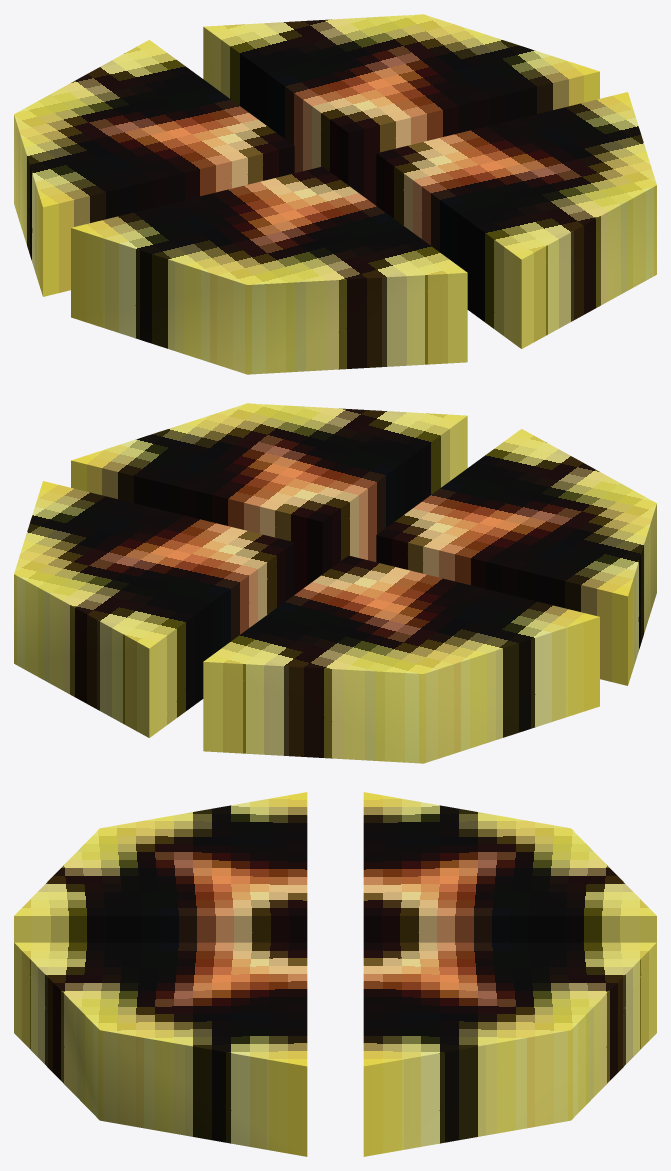
The model's file is ConChip00.glb.
3 views of the same model, one above another, from view 1: azimuth 30°, elevation 25°; view 2: azimuth 150°, elevation 25°; view 3: azimuth 270°, elevation 25° (orthographic).
Visible parts, largest first — view 1: model_ConChip00; view 2: model_ConChip00; view 3: model_ConChip00.
Boxes of the visible parts, left/top/right/bottom form: model_ConChip00: left=14, top=14, right=656, bottom=374; model_ConChip00: left=14, top=403, right=656, bottom=763; model_ConChip00: left=14, top=792, right=656, bottom=1156.
Size of the model in its own units: 0.4718 by 0.0725 by 0.4671.
1 material, 1 textured.
